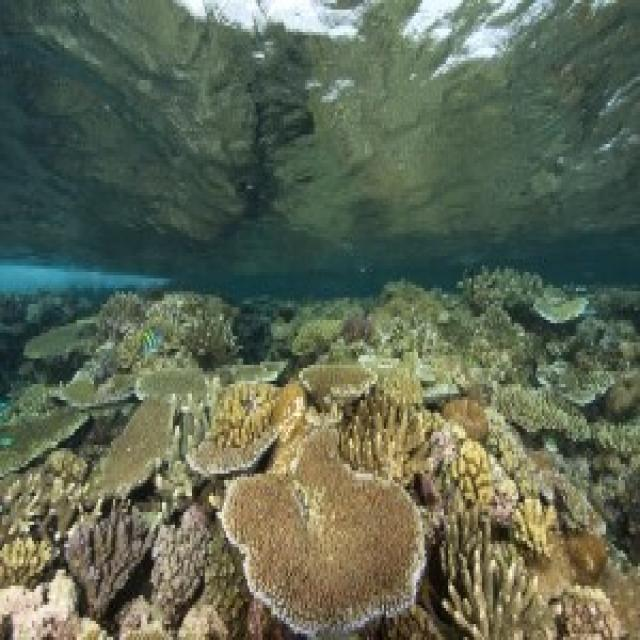Healthy: (223, 430, 426, 631), (353, 270, 583, 385), (440, 503, 554, 638), (150, 507, 251, 638), (1, 449, 95, 587), (344, 366, 440, 484), (541, 292, 639, 404), (492, 385, 639, 459), (65, 500, 157, 615), (101, 295, 238, 363), (184, 382, 280, 475), (566, 455, 639, 561), (1, 388, 88, 475), (1, 571, 108, 638), (103, 401, 172, 494), (61, 340, 140, 407), (485, 407, 547, 491), (291, 299, 364, 353), (556, 587, 620, 638), (300, 363, 376, 404), (445, 439, 492, 503), (27, 318, 95, 356), (515, 497, 556, 555), (138, 369, 206, 398)
